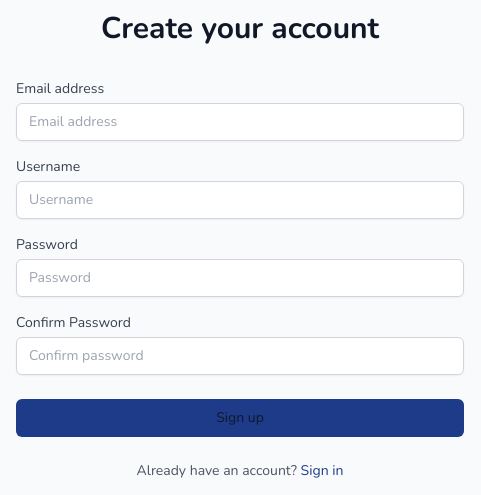
Test: SignupForm › should show loading state while submitting
This screenshot has width=481, height=495.
Type "test@example.com" into the field with placeholder "Email address" at (240, 122), box [16,103,464,141]
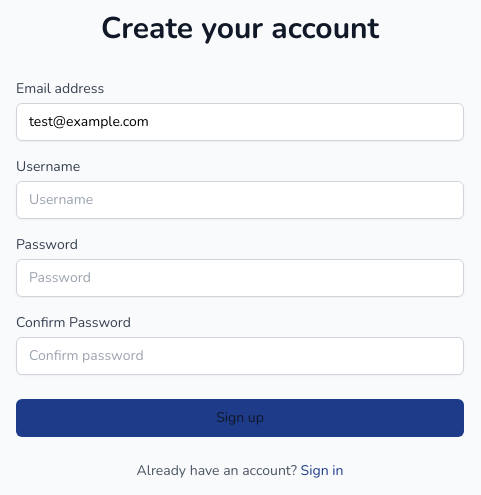
Type "testuser" into the field with placeholder "Username" at (240, 200), box [16,181,464,219]
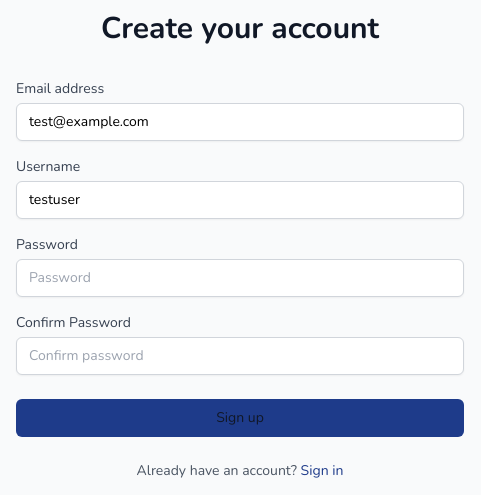
Type "Password123" into the password field with placeholder "Password" at (240, 278), box [16,259,464,297]
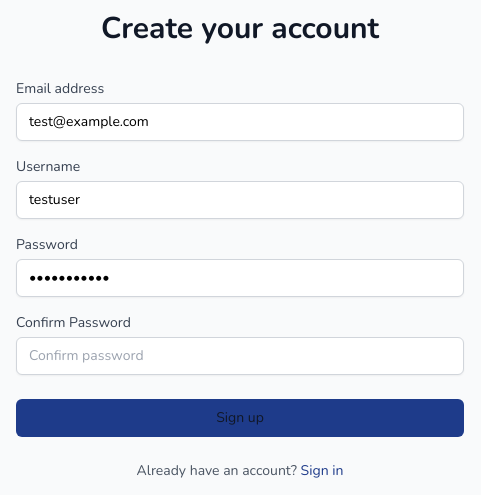
Type "Password123" into the password field with placeholder "Confirm Password" at (240, 356), box [16,337,464,375]
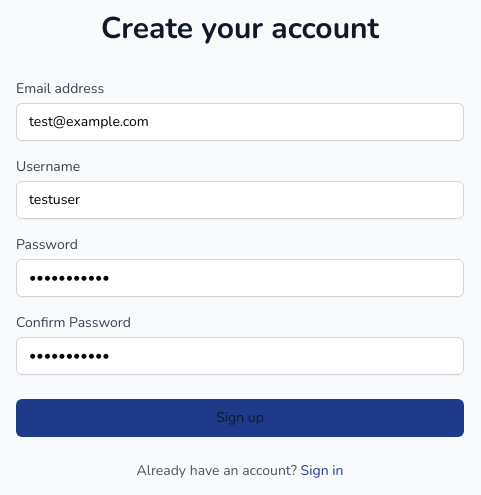
Click the button "Sign up" at (240, 418), box [16,399,464,437]
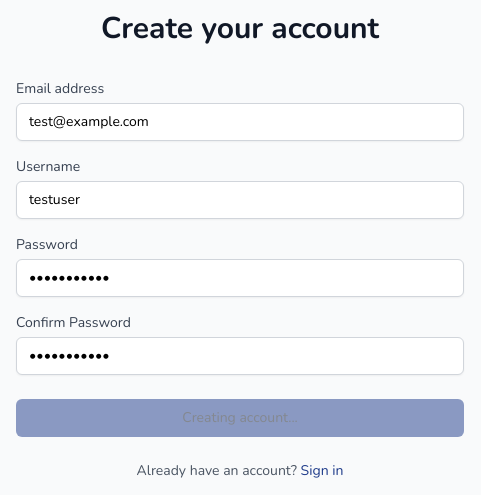
Result: the button "Creating account..." is disabled at [16,399,464,437]
